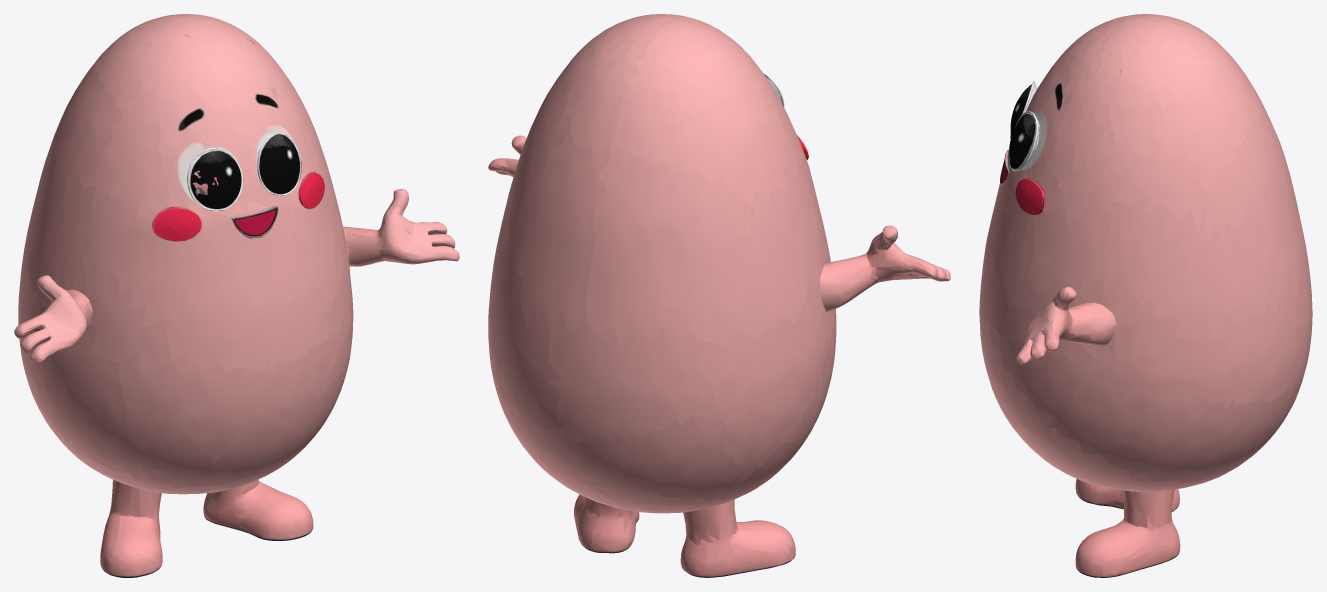
The model's file is player-tpose.glb.
3 views of the same model, side by side, from view 1: azimuth 30°, elevation 25°; view 2: azimuth 150°, elevation 25°; view 3: azimuth 270°, elevation 25° (orthographic). The views are drawn at different scales.
Visible parts, largest first — view 1: mesh_node; view 2: mesh_node; view 3: mesh_node.
Part boxes in pixels (x1,y1,x2,y2): mesh_node: (14,14,459,577); mesh_node: (488,14,950,577); mesh_node: (979,14,1312,577).
Bounding box in the file's own units: 1.69 × 1.9 × 1.13.
1 material, 1 textured.
